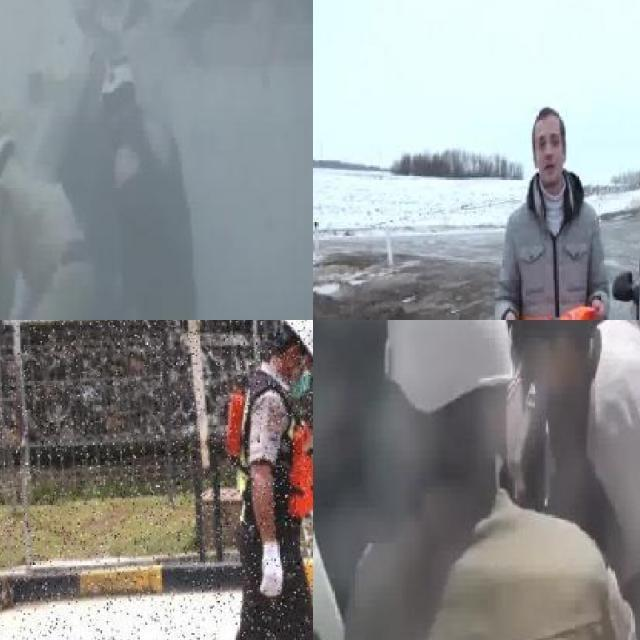apron: (258, 542, 286, 602)
